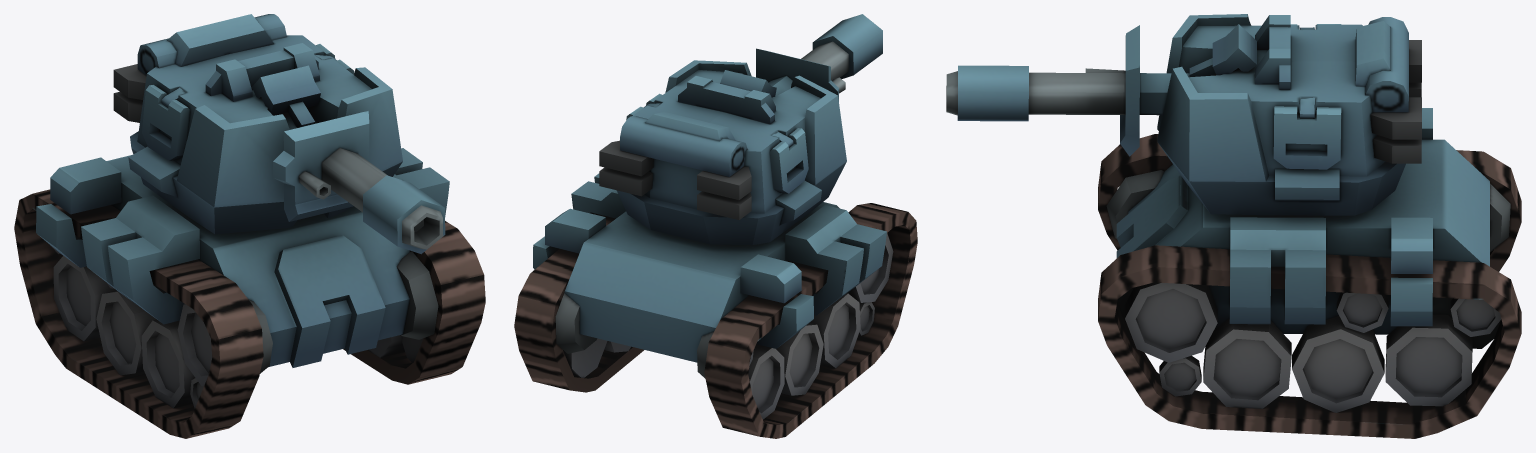
Rendered from Stylized.fbx.
3 views of the same model, side by side, from view 1: azimuth 30°, elevation 25°; view 2: azimuth 150°, elevation 25°; view 3: azimuth 270°, elevation 25° (orthographic). The views are drawn at different scales.
Visible parts, largest first — view 1: tank_Cube.000_Cube.230; view 2: tank_Cube.000_Cube.230; view 3: tank_Cube.000_Cube.230.
Part boxes in pixels (x1,y1,x2,y2): tank_Cube.000_Cube.230: (14,14,485,438); tank_Cube.000_Cube.230: (514,14,917,438); tank_Cube.000_Cube.230: (946,14,1521,438).
Bounding box in the file's own units: 321 × 312 × 483.
1 material, 1 textured.
